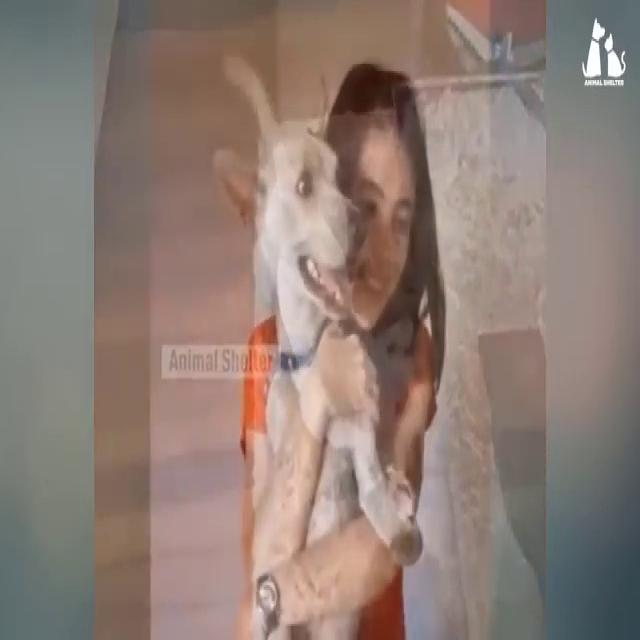normal_animals: (212, 50, 435, 633)
